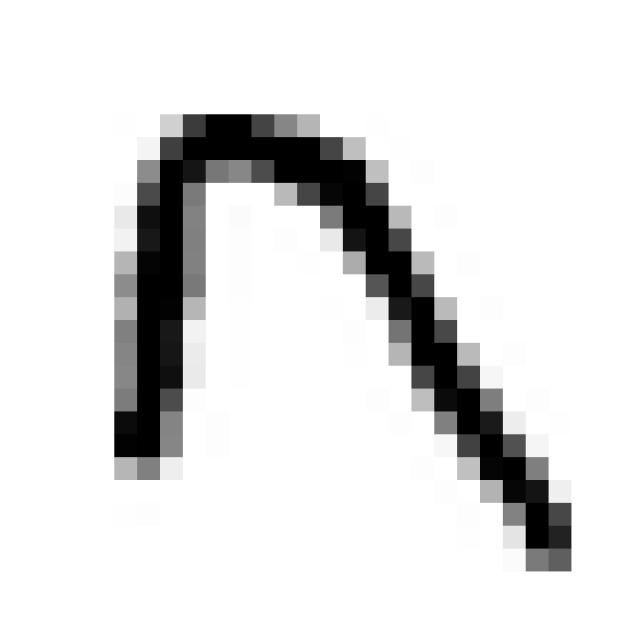8 -eight-: (89, 84, 599, 588)
